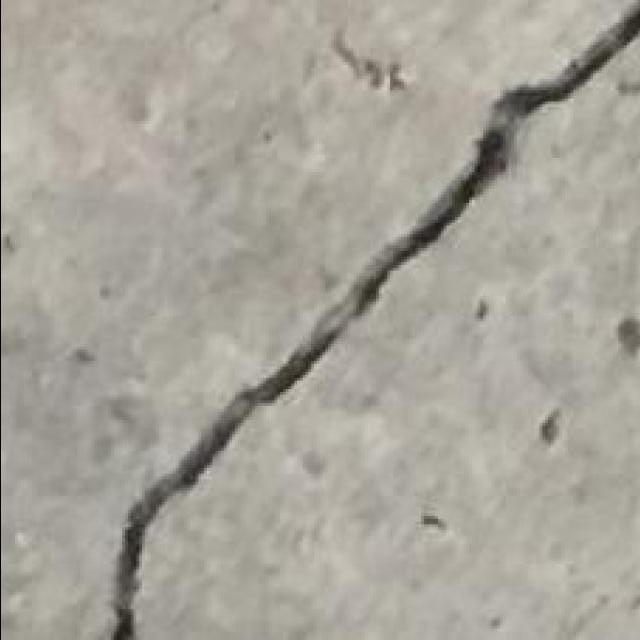crack: (108, 3, 638, 637), (327, 0, 640, 298), (120, 308, 281, 435), (511, 7, 636, 112)
